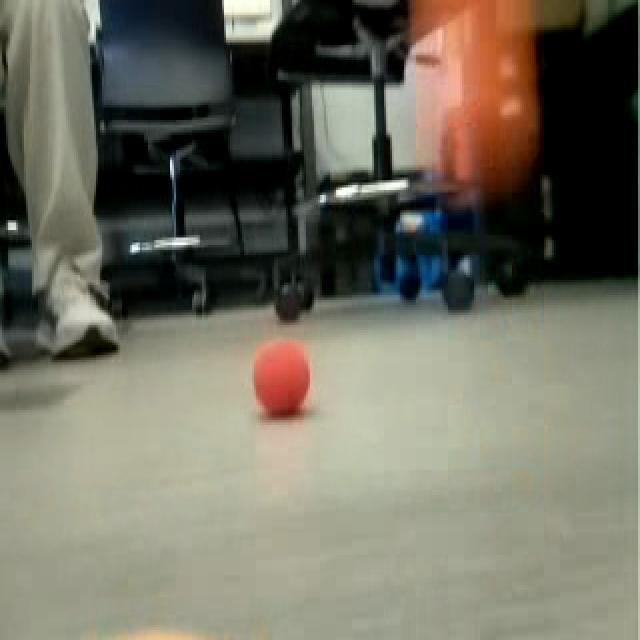oball: (250, 334, 312, 420)
